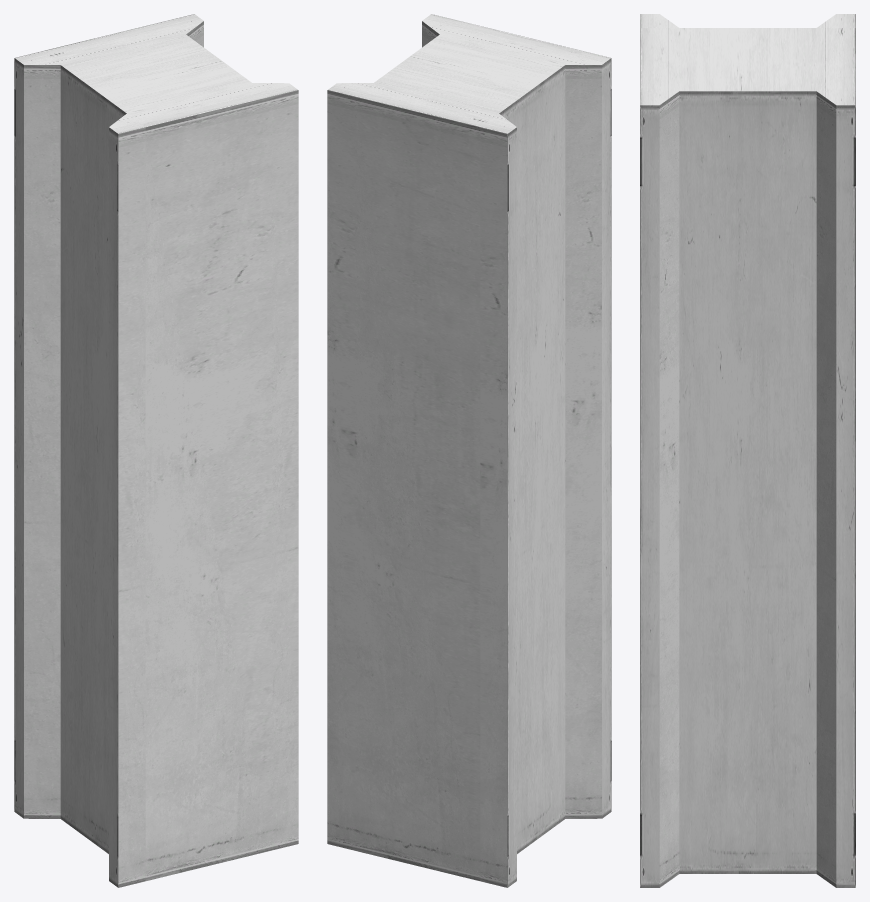
Rendered from PILLAR_1X4_B.FBX.
3 views of the same model, side by side, from view 1: azimuth 30°, elevation 25°; view 2: azimuth 150°, elevation 25°; view 3: azimuth 270°, elevation 25° (orthographic). The views are drawn at different scales.
Parts seen in each view (by area): view 1: PILLAR_1X4_B; view 2: PILLAR_1X4_B; view 3: PILLAR_1X4_B.
Part boxes in pixels (x1,y1,x2,y2): PILLAR_1X4_B: [14, 14, 298, 887]; PILLAR_1X4_B: [327, 14, 611, 887]; PILLAR_1X4_B: [640, 14, 855, 887].
Size of the model in its own units: 1 by 4 by 1.
